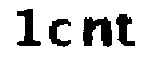1: (16, 8, 42, 46)
c: (48, 18, 75, 48)
n: (82, 15, 115, 50)
t: (116, 12, 137, 49)
